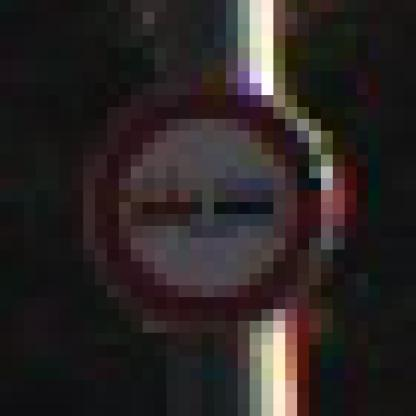No Overtaking: (61, 61, 358, 358)
